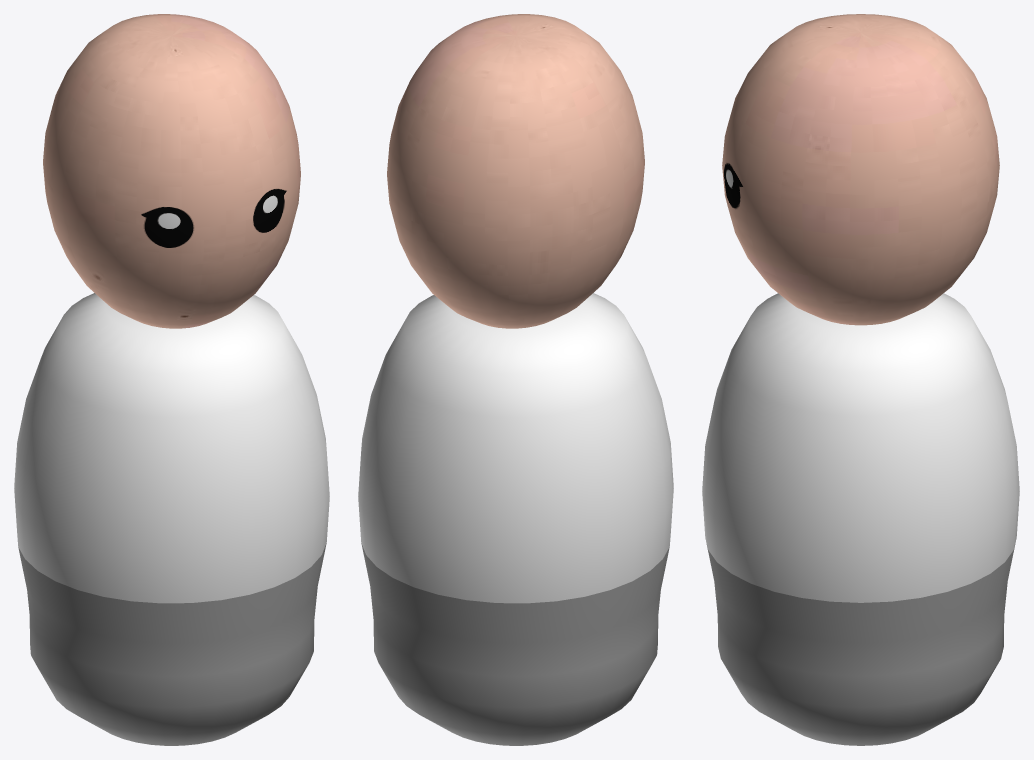
File: Customer.fbx
3 views of the same model, side by side, from view 1: azimuth 30°, elevation 25°; view 2: azimuth 150°, elevation 25°; view 3: azimuth 270°, elevation 25° (orthographic).
Visible parts, largest first — view 1: Torso, Head; view 2: Torso, Head; view 3: Torso, Head.
Boxes of the visible parts, x1=… form: Torso: x1=14, y1=293, x2=329, y2=745; Head: x1=43, y1=14, x2=300, y2=328; Torso: x1=358, y1=293, x2=673, y2=745; Head: x1=387, y1=14, x2=644, y2=328; Torso: x1=702, y1=293, x2=1019, y2=745; Head: x1=722, y1=14, x2=999, y2=325.
Bounding box in the file's own units: 358 × 867 × 358.
